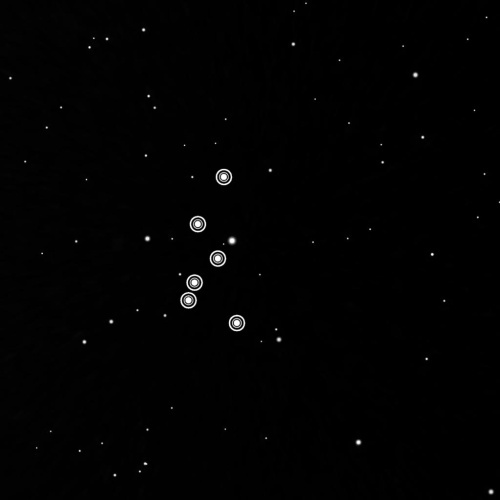cassiopeia: (172, 162, 254, 339)
